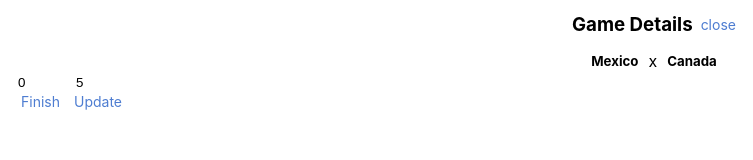
Test: GameDetails › should render save button
Click the button "Update" at (98, 102), box [74,93,122,110]
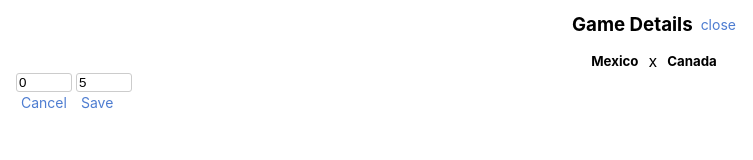
Expected: the button "Save" is shown, [81,94,113,111]
